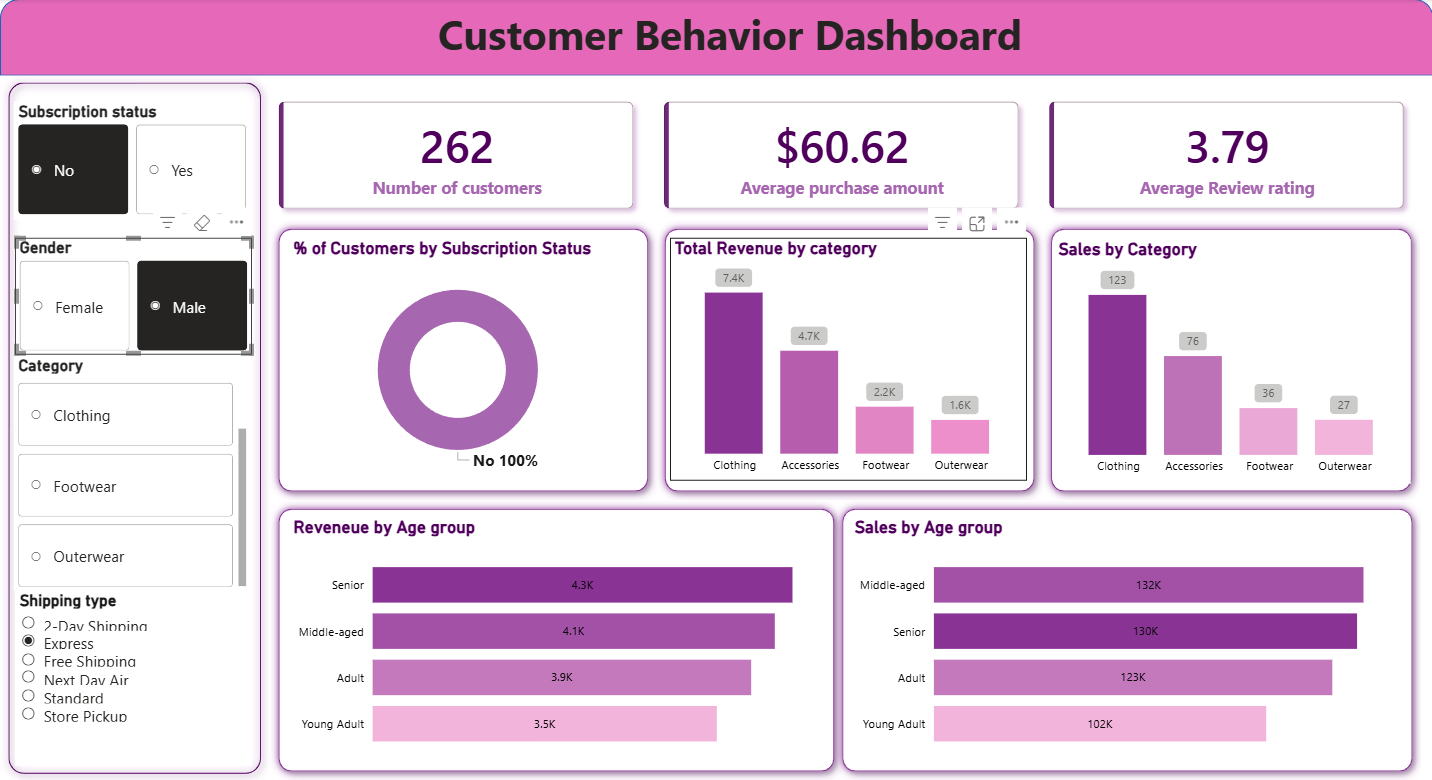

What the dashboard file says about the page in this screenshot:
{"tool":"powerbi","page":{"name":"Page 1","canvas":[1500,820],"ordinal":0},"visuals":[{"type":"cardVisual","fields":{"Data":["public customer.Number of customers","public customer.Average purchase amount","public customer.Average Review rating"]},"box":[263,79,1237.3,170.3],"z":0},{"type":"shape","box":[0,0,1500.3,80.4],"z":1000},{"type":"textbox","box":[452.4,2.7,622.7,72.2],"z":2000},{"type":"shape","box":[282.1,231.7,404.7,293],"z":3000},{"type":"donutChart","title":"% of Customers by Subscription Status","fields":{"Category":["public customer.subscription_status"],"Y":["CountNonNull(public customer.customer_id)"]},"box":[302.5,249.4,354.3,256.2],"z":4000},{"type":"shape","box":[686.8,231.7,404.7,293],"z":5000},{"type":"shape","box":[1091.5,231.7,395.2,293],"z":6000},{"type":"clusteredColumnChart","title":"Total Revenue by category","fields":{"Y":["Sum(public customer.purchase_amount)"],"Category":["public customer.category"]},"box":[701.8,249.4,373.4,256.2],"z":7000},{"type":"clusteredColumnChart","title":"Sales by Category","fields":{"Y":["Count(public customer.customer_id)"],"Category":["public customer.category"]},"box":[1102.4,250.7,373.4,256.2],"z":8000},{"type":"shape","box":[0,79,282.1,741.3],"z":9000},{"type":"advancedSlicerVisual","title":"Subscription status","fields":{"Values":["public customer.subscription_status"]},"box":[15,107.6,248,124],"z":10000},{"type":"advancedSlicerVisual","title":"Gender","fields":{"Values":["public customer.gender"]},"box":[16.4,249.4,248,124],"z":11000},{"type":"advancedSlicerVisual","title":"Category","fields":{"Values":["public customer.category"]},"box":[15,373.4,248,245.3],"z":12000},{"type":"listSlicer","title":"Shipping type","fields":{"Values":["public customer.shipping_type"]},"box":[16.4,618.6,248,184],"z":13000},{"type":"shape","box":[282.1,524.6,599.6,293],"z":14000},{"type":"clusteredBarChart","title":"Reveneue by Age group","fields":{"Y":["Sum(public customer.purchase_amount)"],"Category":["public customer.age_group"]},"box":[302.5,541,556,261.6],"z":15000},{"type":"shape","box":[872.1,524.6,614.6,293],"z":15001},{"type":"clusteredBarChart","title":"Sales by Age group","fields":{"Y":["Sum(public customer.customer_id)"],"Category":["public customer.age_group"]},"box":[889.8,541,576.4,261.6],"z":15002}]}

Visuals, with their boxes in screenshot pixels (x1, y1, x2, y2), scaled from the page's 1500x820 canvas onto the 1432x780 screenshot:
cardVisual - public customer.Number of customers x public customer.Average purchase amount: 251, 75, 1431, 237
shape: 0, 0, 1431, 76
textbox: 432, 3, 1026, 71
shape: 269, 220, 656, 499
"% of Customers by Subscription Status" donutChart: 289, 237, 627, 481
shape: 656, 220, 1042, 499
shape: 1042, 220, 1419, 499
"Total Revenue by category" clusteredColumnChart: 670, 237, 1026, 481
"Sales by Category" clusteredColumnChart: 1052, 238, 1409, 482
shape: 0, 75, 269, 779
"Subscription status" advancedSlicerVisual: 14, 102, 251, 220
"Gender" advancedSlicerVisual: 16, 237, 252, 355
"Category" advancedSlicerVisual: 14, 355, 251, 589
"Shipping type" listSlicer: 16, 588, 252, 763
shape: 269, 499, 842, 778
"Reveneue by Age group" clusteredBarChart: 289, 515, 820, 763
shape: 833, 499, 1419, 778
"Sales by Age group" clusteredBarChart: 849, 515, 1400, 763
